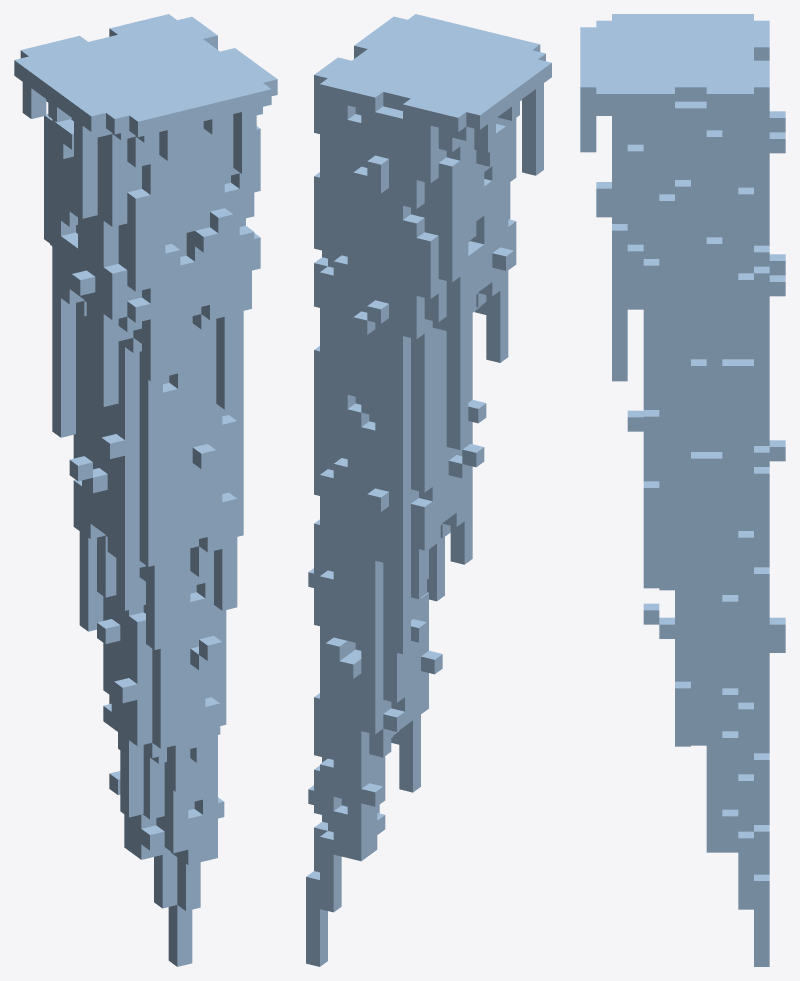
Rendered from icycle.glb.
The picture shows the model from 3 angles, left to right: view 1: azimuth 30°, elevation 25°; view 2: azimuth 150°, elevation 25°; view 3: azimuth 270°, elevation 25°; orthographic projection. The views are drawn at different scales.
Visible parts, largest first — view 1: Untitled; view 2: Untitled; view 3: Untitled.
Boxes of the visible parts, <box> form: Untitled: <box>14,14,277,966</box>; Untitled: <box>306,14,551,966</box>; Untitled: <box>580,14,785,966</box>.
Bounding box in the file's own units: 1.3 × 6.1 × 1.3.
1 material, 1 textured.
